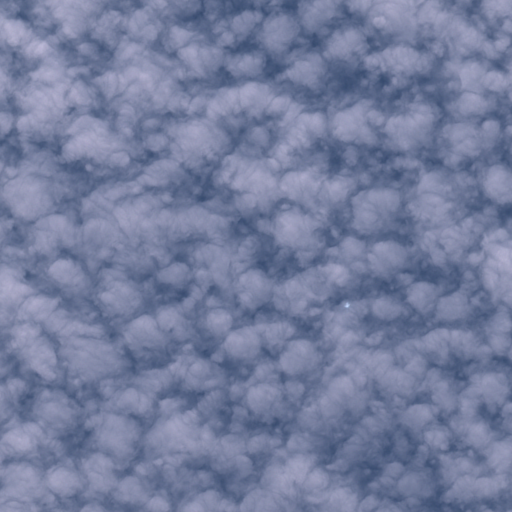Iceberg: (345, 303, 349, 306)
